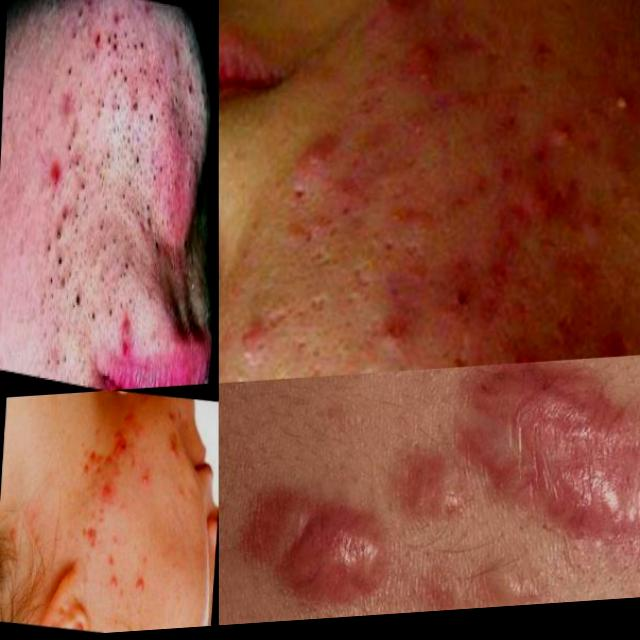6: (426, 364, 640, 582), (226, 489, 392, 628), (446, 548, 580, 617), (398, 447, 442, 528)
8: (276, 127, 352, 202), (545, 247, 611, 313), (388, 35, 453, 100), (358, 308, 428, 363), (361, 0, 429, 46), (514, 167, 560, 232), (232, 317, 278, 369), (583, 333, 640, 367), (50, 155, 65, 207)
9: (588, 80, 640, 144), (540, 121, 584, 168), (128, 555, 150, 610), (100, 567, 121, 600), (136, 461, 154, 496)
blackheads: (495, 337, 553, 372), (106, 423, 136, 472), (74, 515, 98, 562)
dark spot: (103, 0, 149, 162), (35, 200, 85, 336), (111, 210, 143, 382), (162, 21, 196, 163)
whiteheads: (6, 517, 30, 554)
